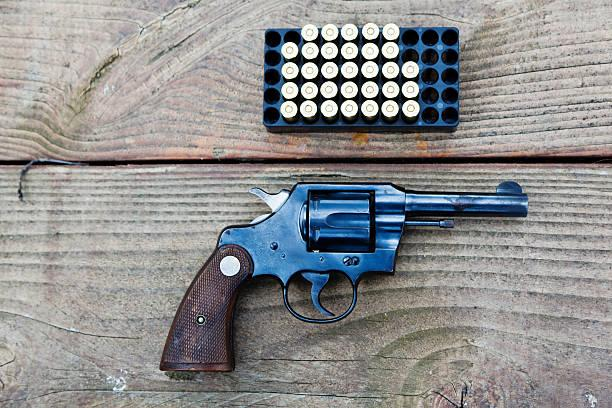weapon: (156, 175, 532, 374)
